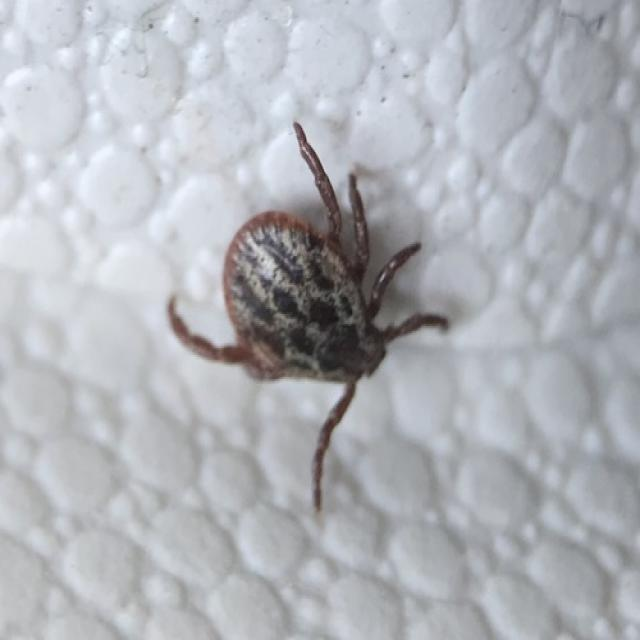Dermacentor Reticulatus-M: (166, 119, 449, 512)
